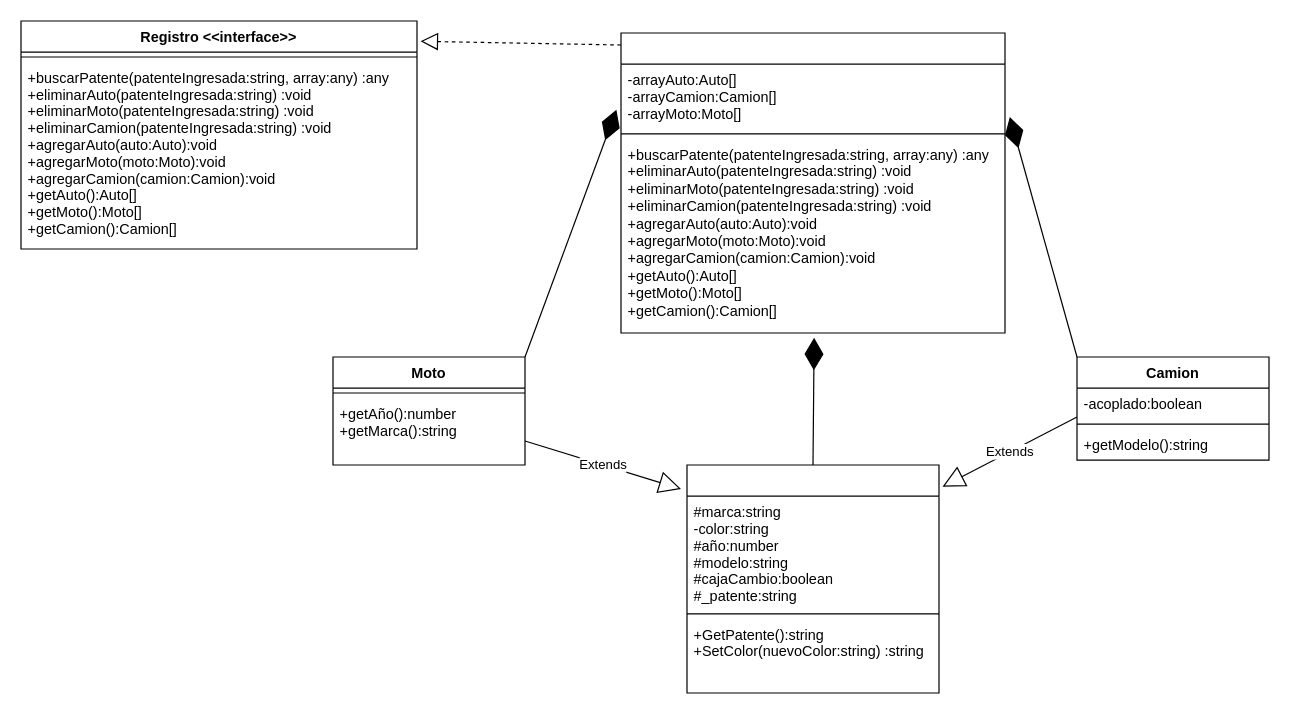
Image size: 1290x718. Some labels were removed from this diagram. The box of each missing label's shape, as (x1, y1, x2, y2) in pixels:
Auto: (686, 464, 939, 693)
RegistroAutomotor: (620, 32, 1005, 333)
